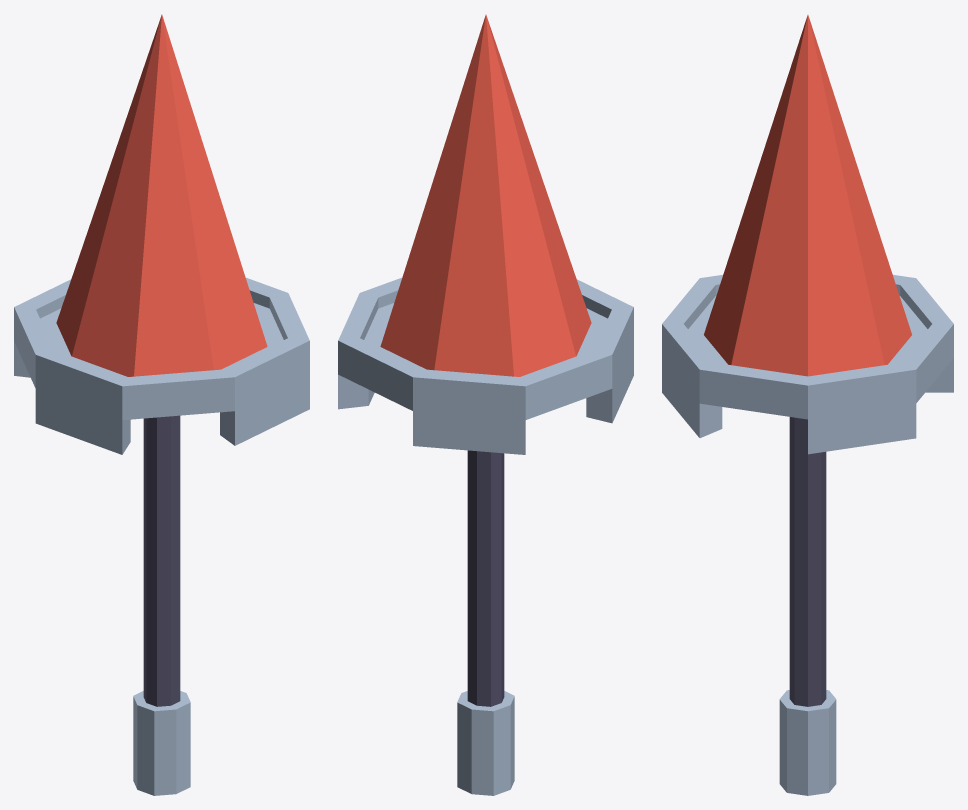
Rendered from weapn_rans.fbx.
The picture shows the model from 3 angles, left to right: view 1: azimuth 30°, elevation 25°; view 2: azimuth 150°, elevation 25°; view 3: azimuth 270°, elevation 25°; orthographic projection.
Parts seen in each view (by area): view 1: stick; view 2: stick; view 3: stick.
Boxes of the visible parts, box(x1,y1,x2,y2) form: stick: box(14, 14, 309, 795); stick: box(338, 14, 633, 795); stick: box(662, 15, 953, 795).
Bounding box in the file's own units: 1083 × 3151 × 1083.
